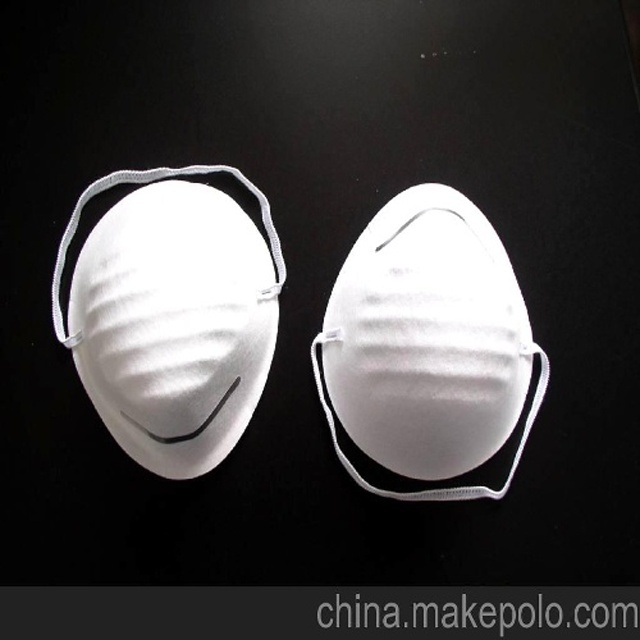mask: (310, 175, 553, 506), (51, 161, 291, 484)
